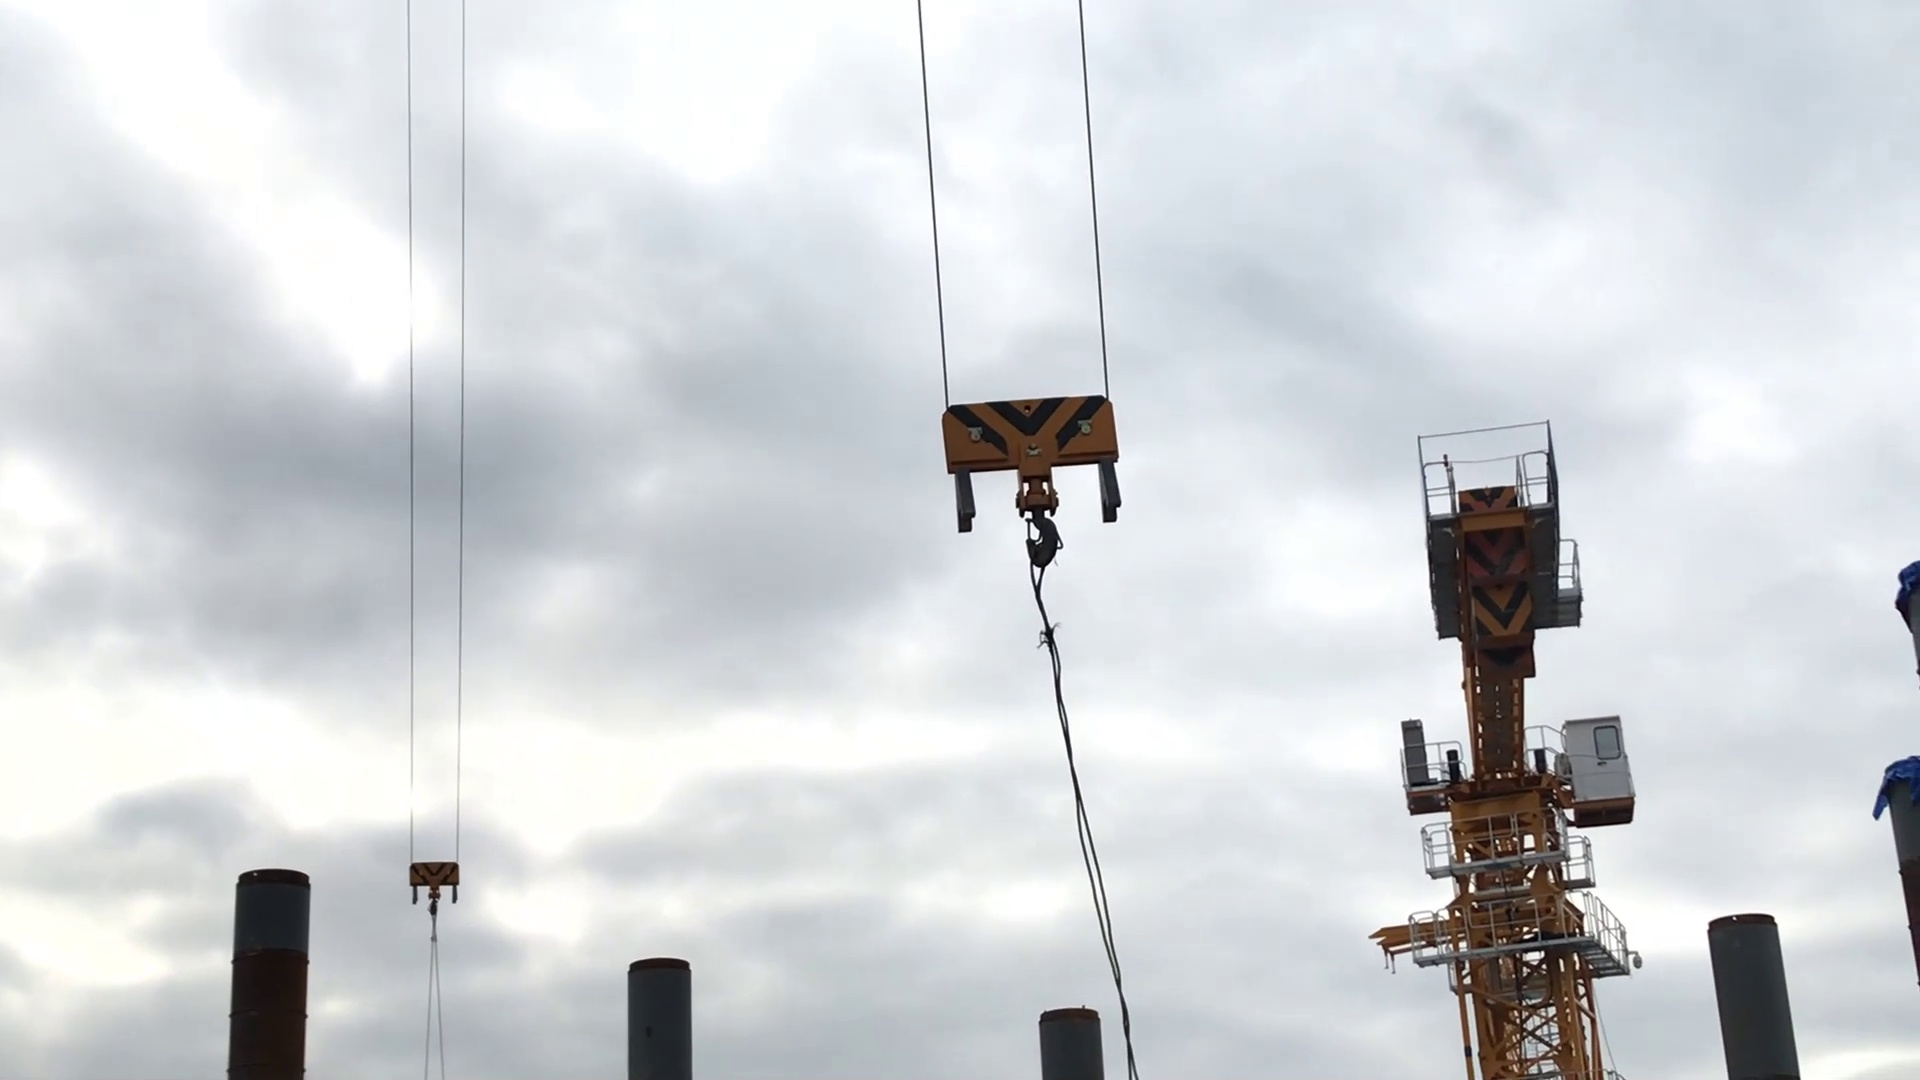hook: (924, 390, 1129, 574), (404, 851, 460, 903)
